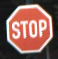stopsign: (6, 4, 53, 54)
